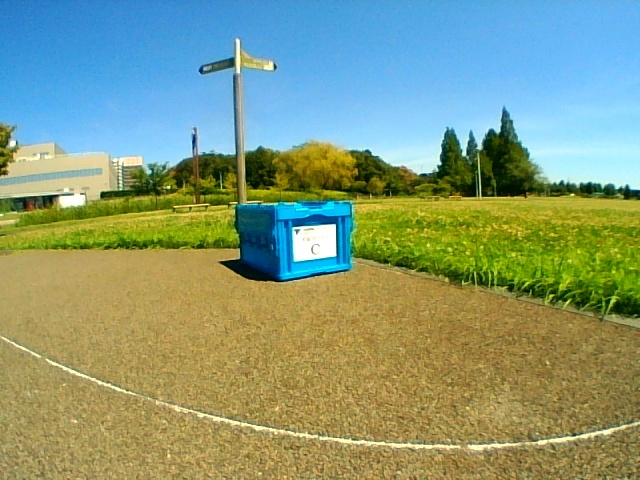blue_box: (240, 204, 352, 270)
tag_c: (294, 227, 332, 257)
